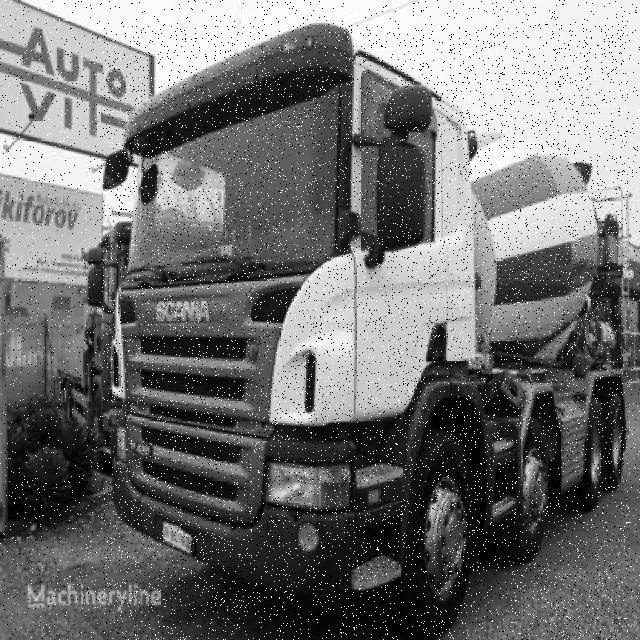Concrete Mixer: (102, 24, 628, 640)
